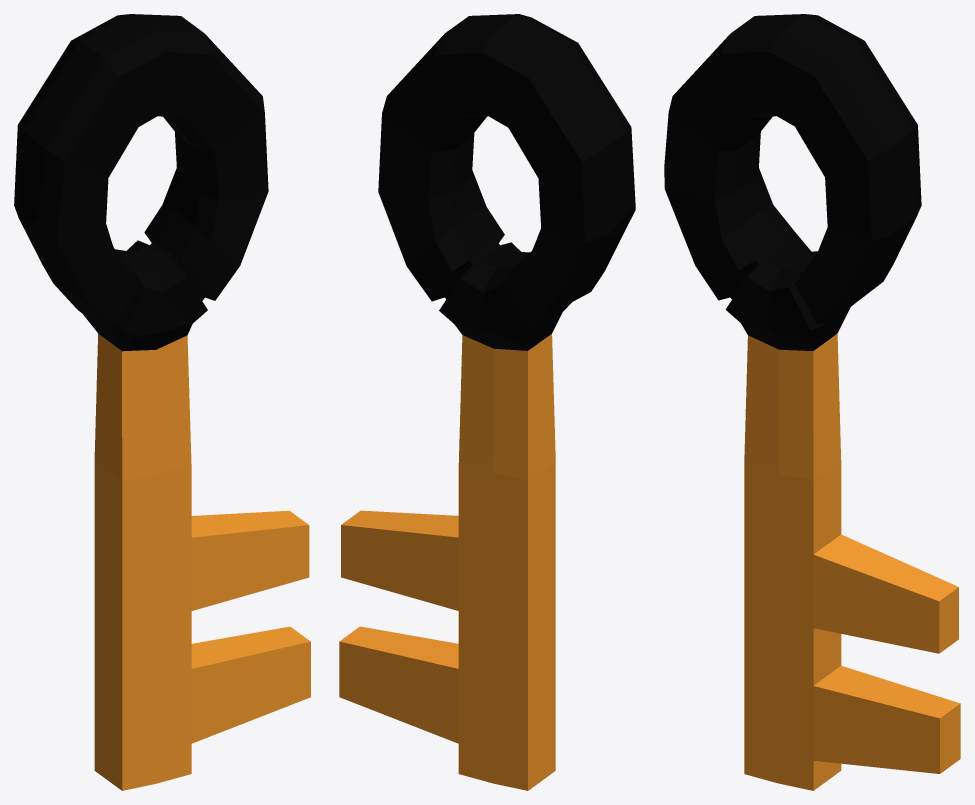
Rendered from key.glb.
3 views of the same model, side by side, from view 1: azimuth 30°, elevation 25°; view 2: azimuth 150°, elevation 25°; view 3: azimuth 330°, elevation 25° (orthographic).
Visible parts, largest first — view 1: Cube; view 2: Cube; view 3: Cube.
Part boxes in pixels (left/top/right/bottom): Cube: left=14, top=14, right=310, bottom=790; Cube: left=339, top=14, right=635, bottom=790; Cube: left=664, top=14, right=960, bottom=790.
Bounding box in the file's own units: 1.44 × 3.75 × 0.4741.
